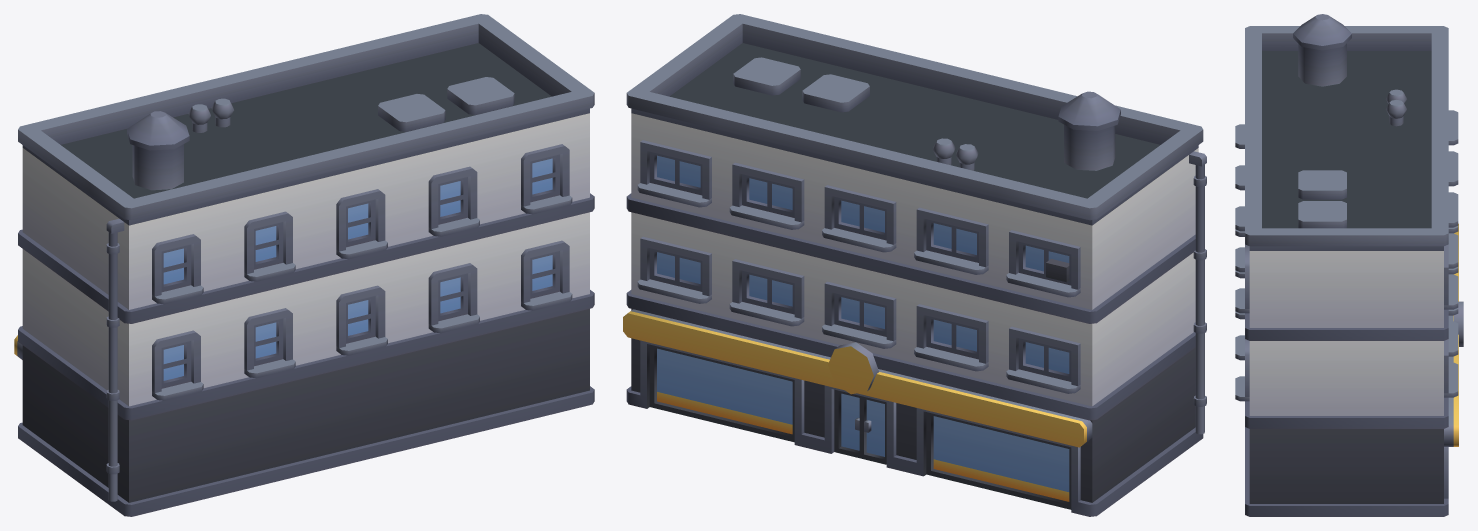
File: building-k.glb
3 renders of one model, left to right at view 1: azimuth 30°, elevation 25°; view 2: azimuth 150°, elevation 25°; view 3: azimuth 270°, elevation 25°, orthographic. The views are drawn at different scales.
Visible parts, largest first — view 1: building-k; view 2: building-k; view 3: building-k.
Boxes of the visible parts, bbox=[...] form: building-k: bbox=[14, 14, 594, 516]; building-k: bbox=[623, 14, 1206, 516]; building-k: bbox=[1235, 14, 1463, 516].
Bounding box in the file's own units: 2.08 × 1.47 × 0.9419.
1 material, 1 textured.
